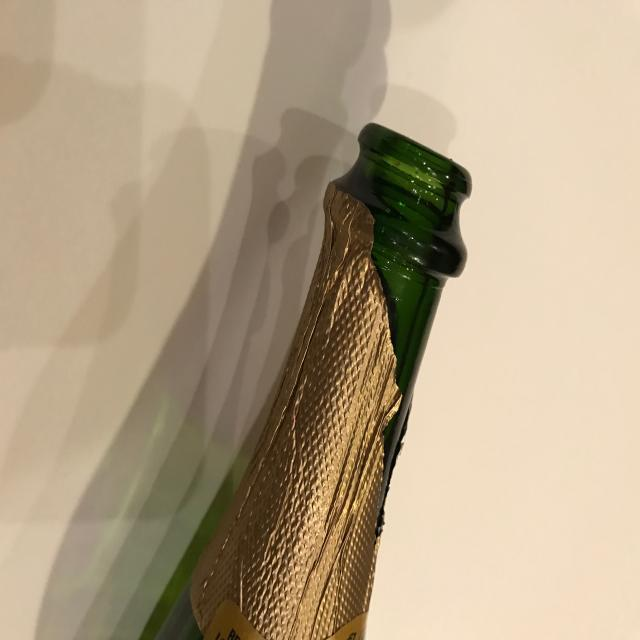glass: (134, 119, 472, 640)
